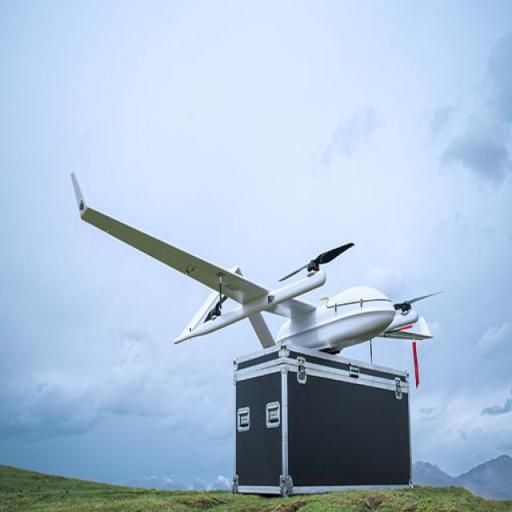uav: (68, 158, 482, 364)
